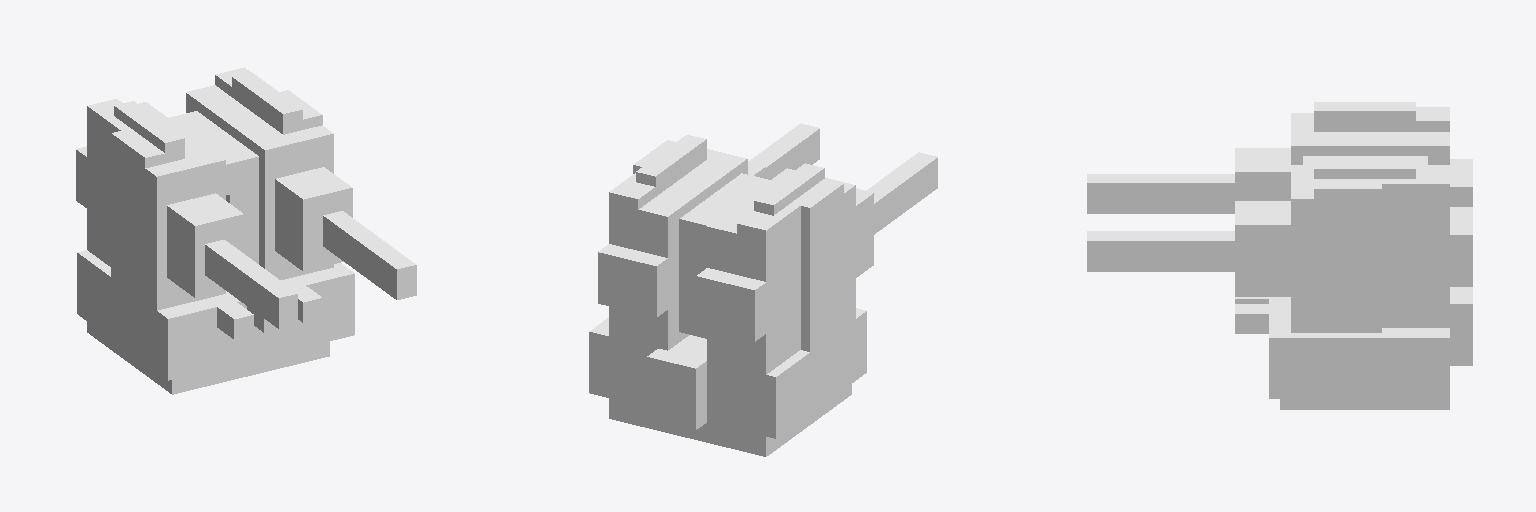
File: MultiShotTower0_Top.obj
3 renders of one model, left to right at view 1: azimuth 30°, elevation 25°; view 2: azimuth 150°, elevation 25°; view 3: azimuth 270°, elevation 25°, orthographic.
Parts seen in each view (by area): view 1: MultiShotTower0_Top; view 2: MultiShotTower0_Top; view 3: MultiShotTower0_Top.
Boxes of the visible parts, x1,y1,x2,y2 form: MultiShotTower0_Top: [76, 67, 416, 394]; MultiShotTower0_Top: [589, 123, 937, 456]; MultiShotTower0_Top: [1087, 102, 1472, 409].
Size of the model in its own units: 19 by 23 by 34.